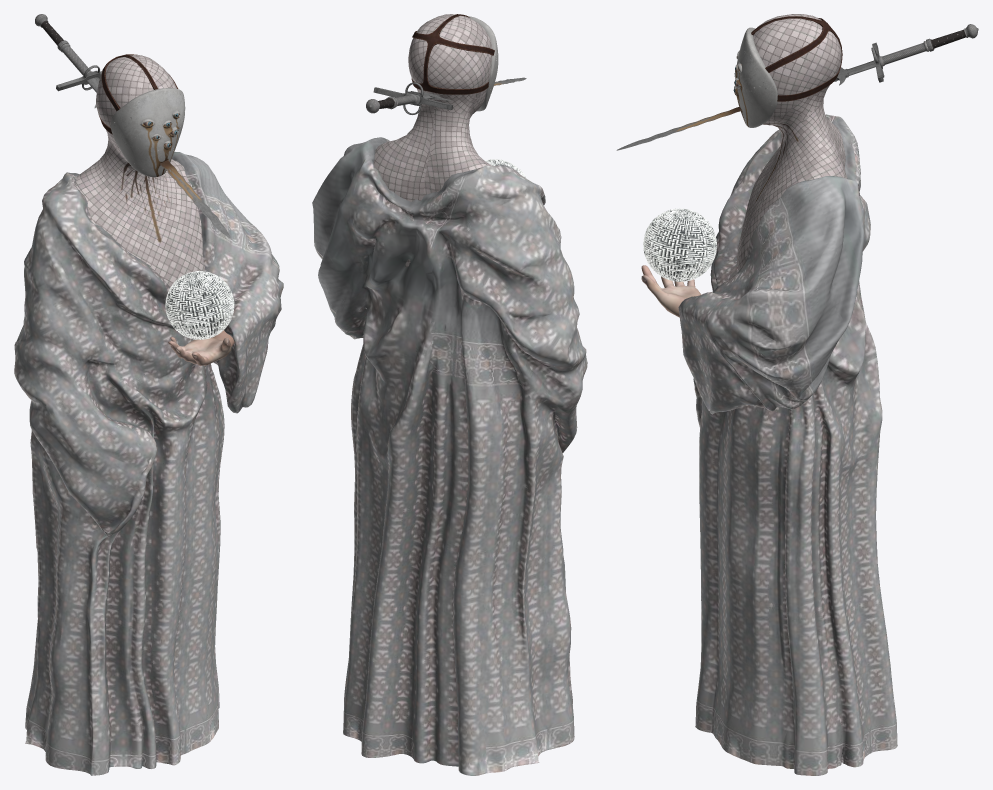
Rendered from master.glb.
3 renders of one model, left to right at view 1: azimuth 30°, elevation 25°; view 2: azimuth 150°, elevation 25°; view 3: azimuth 270°, elevation 25°, orthographic. The views are drawn at different scales.
Visible parts, largest first — view 1: Cloth, Body, Mask_Mask_0.001, Maze, Zweihander, Hand, Mask, straps; view 2: Cloth, Body, straps, Zweihander; view 3: Cloth, Body, Maze, Mask_Mask_0.001, Zweihander, straps, Hand, Mask, Mask_Mask_0.002.
Part boxes in pixels (x1,y1,x2,y2): Cloth: (14, 152, 283, 775); Body: (75, 55, 204, 286); Mask_Mask_0.001: (110, 88, 185, 177); Maze: (165, 271, 234, 339); Zweihander: (35, 14, 230, 237); Hand: (168, 330, 234, 365); Mask: (110, 88, 183, 177); straps: (98, 54, 178, 134); Cloth: (312, 137, 587, 775); Body: (373, 14, 492, 267); straps: (411, 14, 494, 94); Zweihander: (366, 77, 526, 114); Cloth: (678, 114, 897, 775); Body: (736, 14, 847, 270); Maze: (643, 208, 716, 281); Mask_Mask_0.001: (734, 27, 777, 127); Zweihander: (616, 24, 978, 150); straps: (751, 16, 842, 101); Hand: (641, 265, 701, 317); Mask: (734, 27, 777, 127); Mask_Mask_0.002: (736, 48, 775, 124).
Size of the model in its own units: 3.3 by 8.51 by 3.92.
8 materials, 7 textured.
